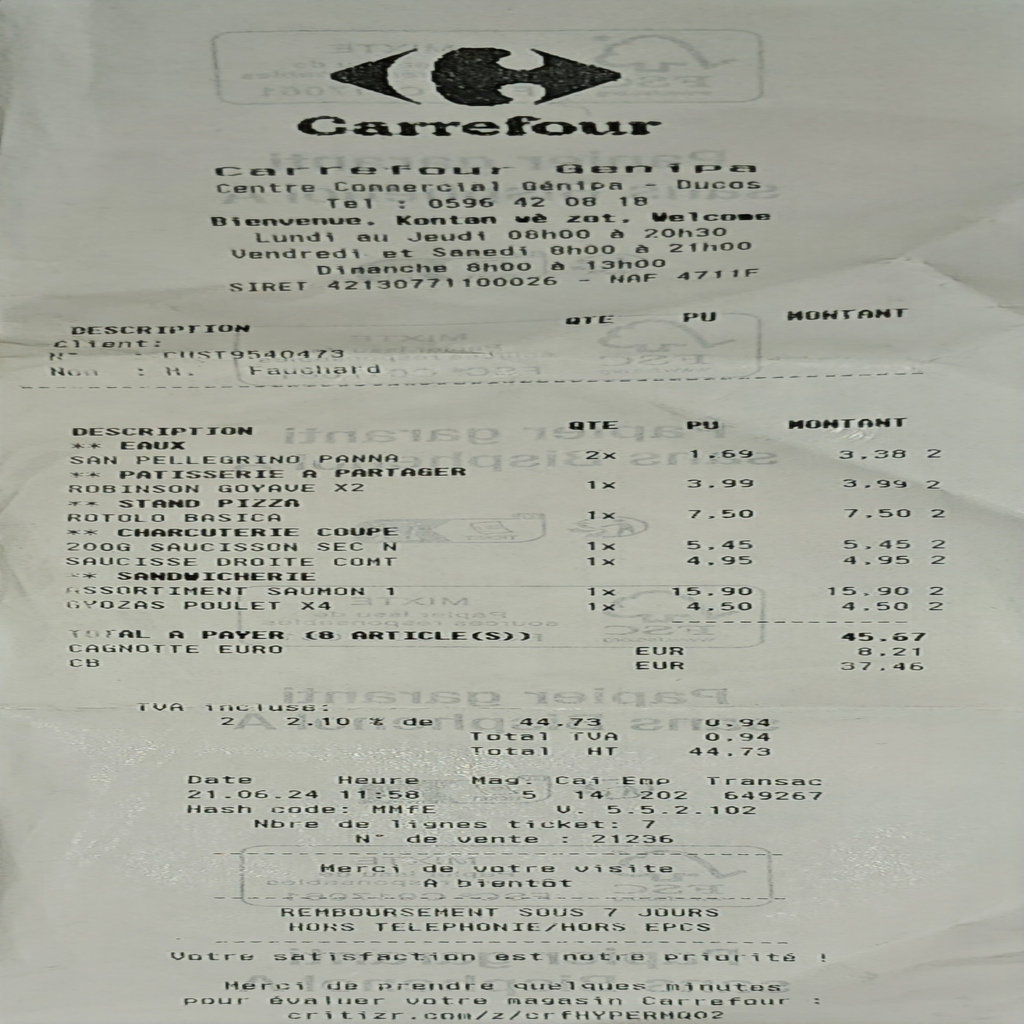recipt: (4, 4, 1016, 1009)
